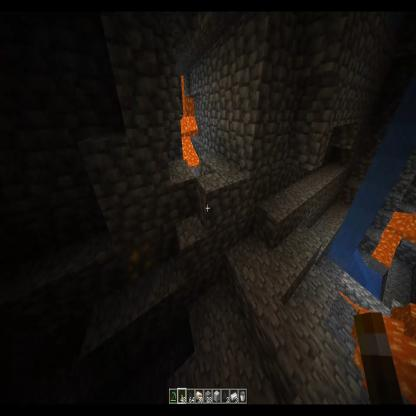iron ore: (118, 232, 160, 284)
